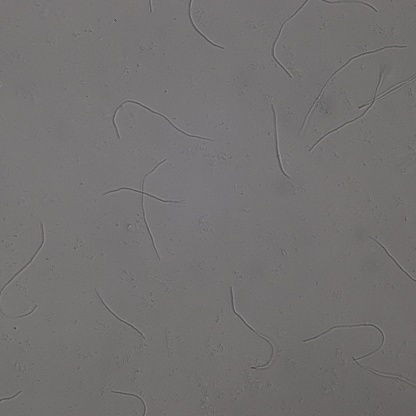Sensitive: (300, 39, 408, 130), (102, 158, 180, 260), (311, 70, 384, 149), (110, 98, 214, 145), (228, 287, 277, 370), (300, 323, 391, 360), (271, 1, 314, 79), (1, 222, 43, 299), (94, 289, 146, 338), (371, 236, 416, 284), (186, 1, 225, 50), (269, 104, 290, 178), (111, 388, 148, 416)
